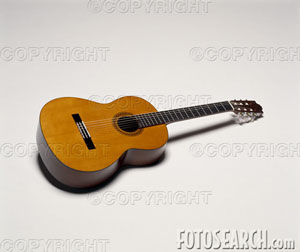guitar: (37, 96, 266, 191)
